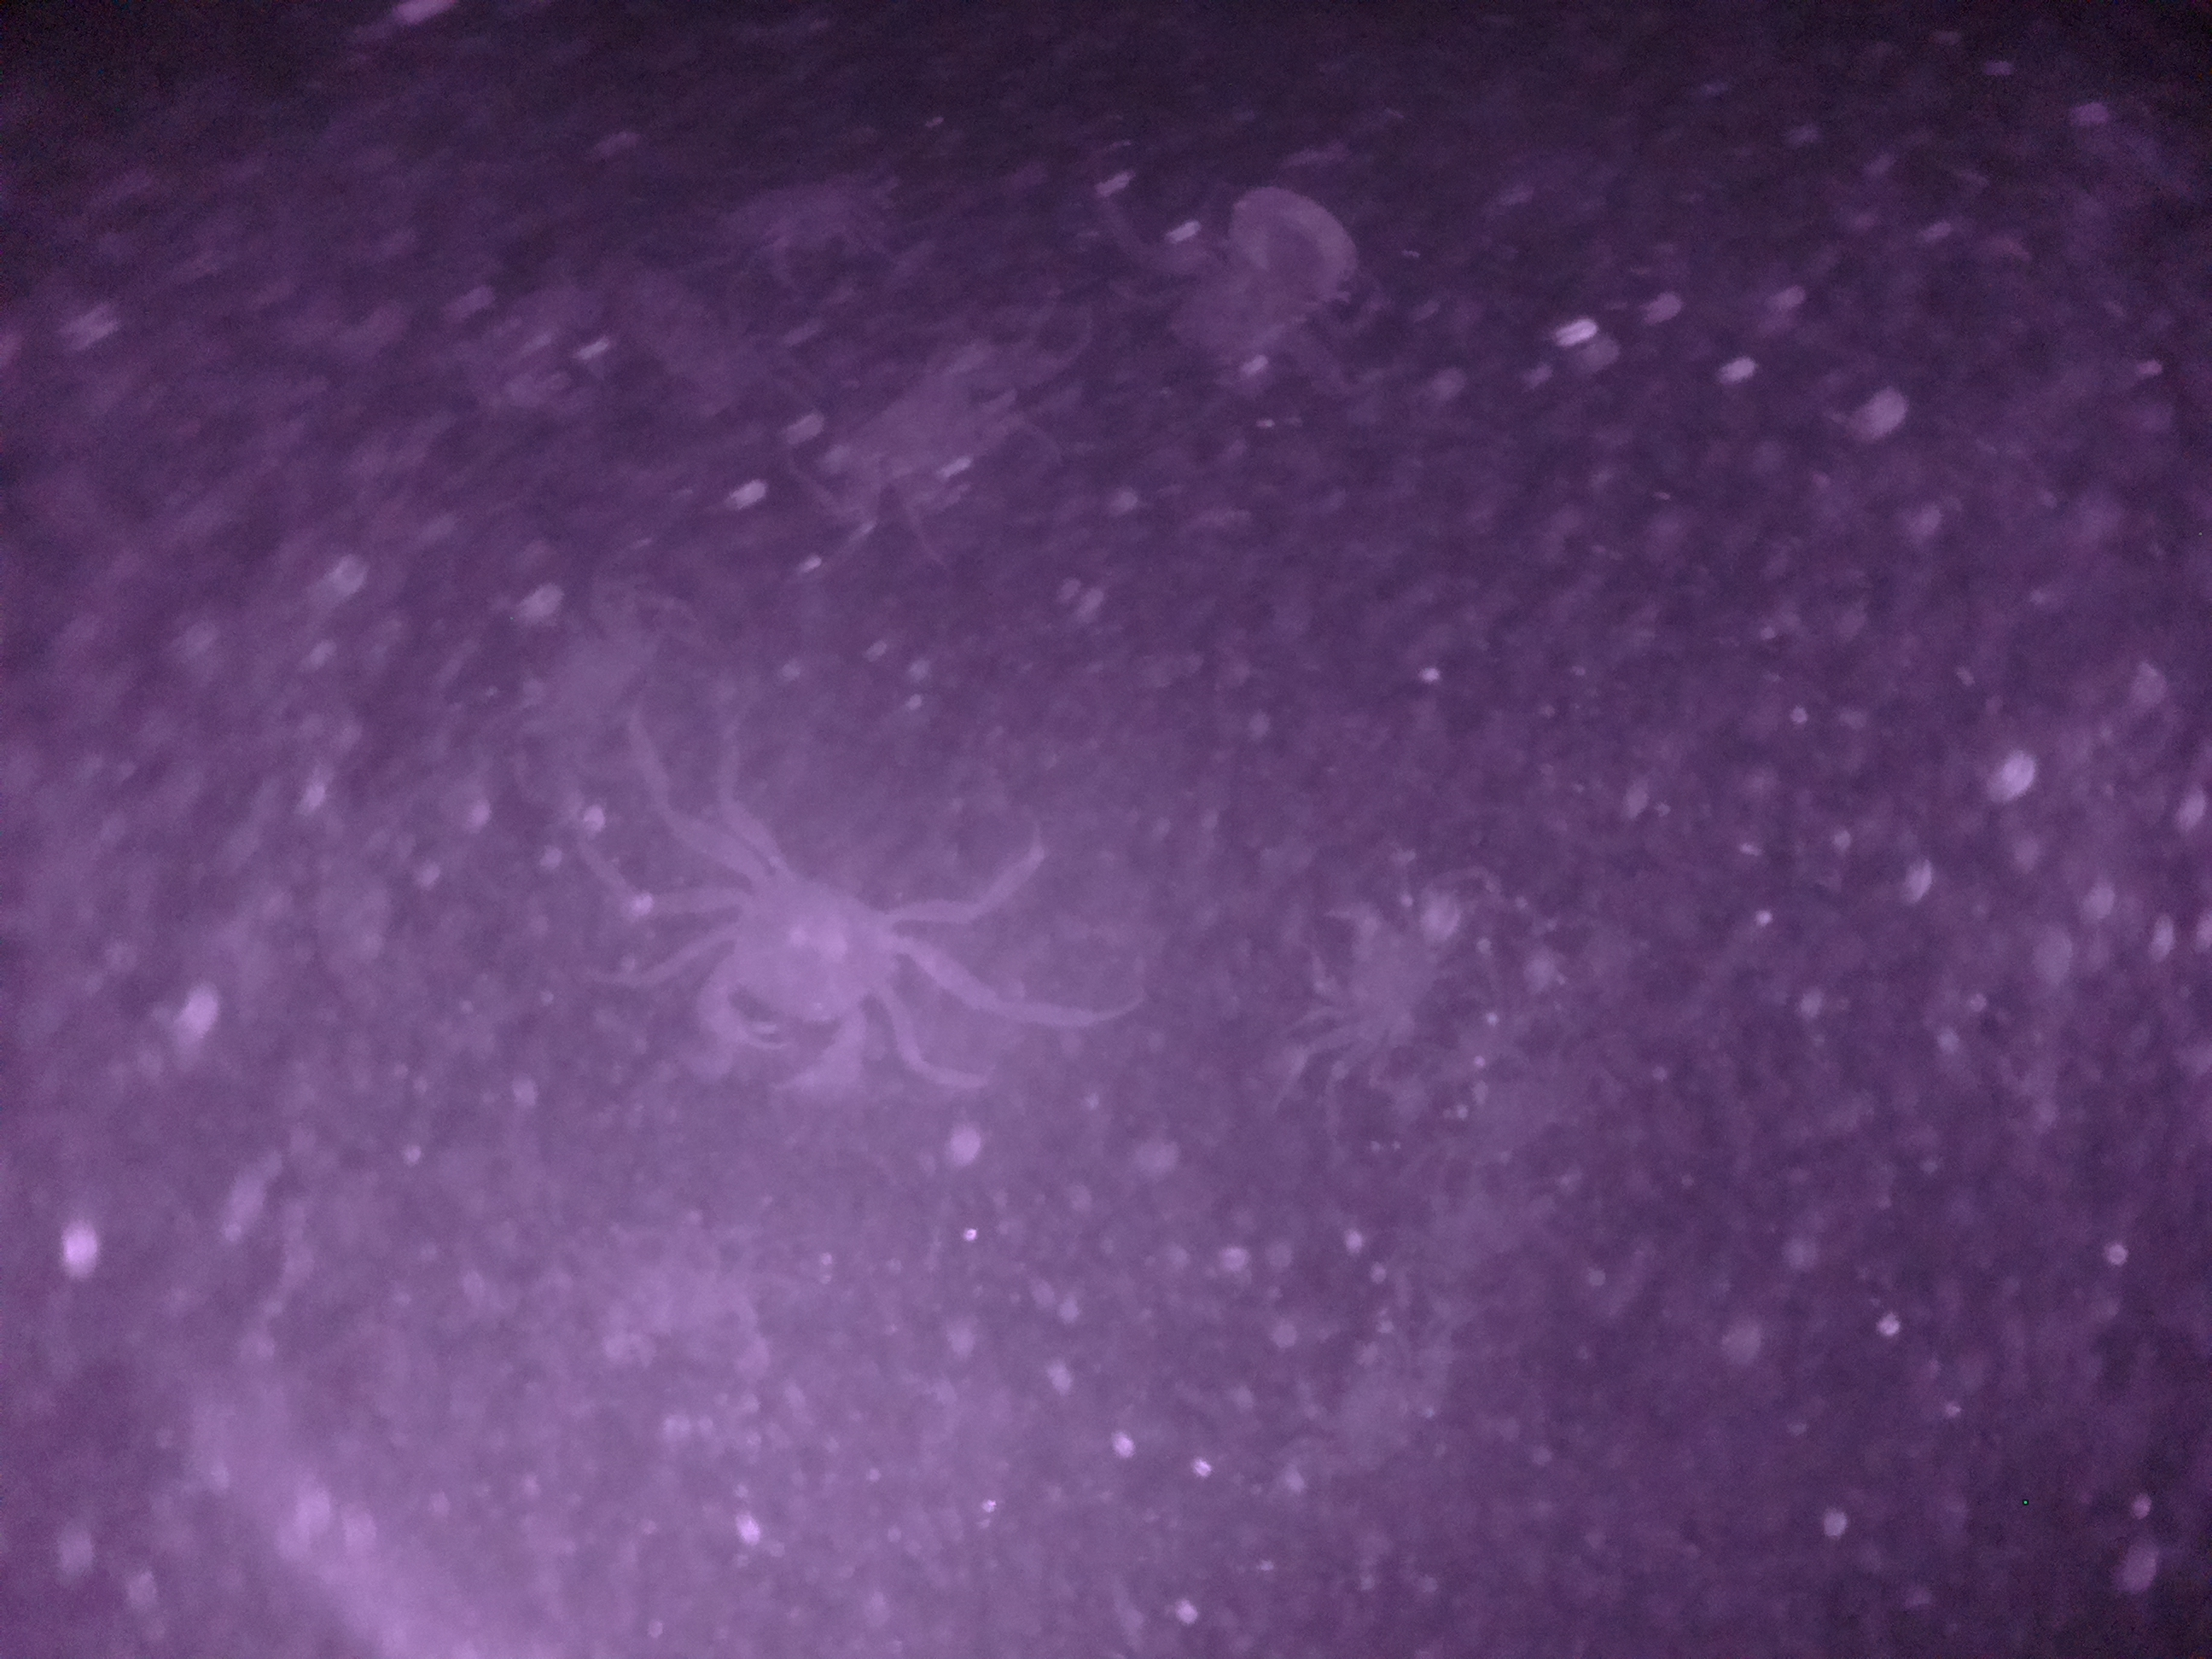Crab: (610, 833, 961, 1103)
